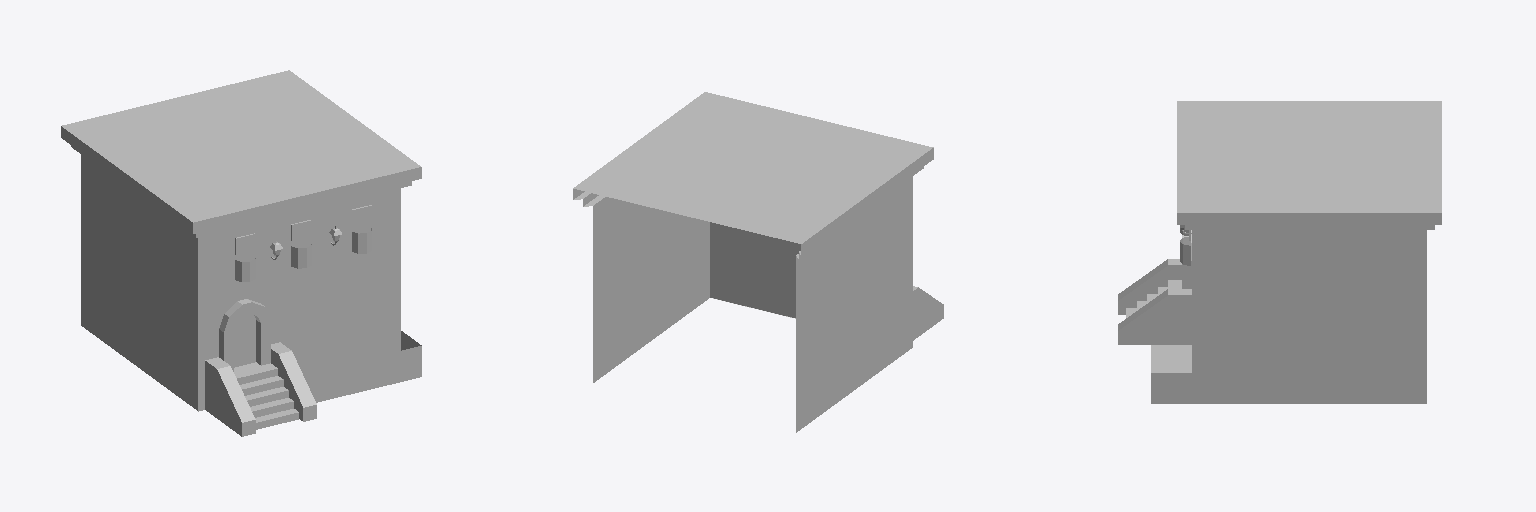
The model's file is apartment1.obj.
3 renders of one model, left to right at view 1: azimuth 30°, elevation 25°; view 2: azimuth 150°, elevation 25°; view 3: azimuth 270°, elevation 25°, orthographic.
Visible parts, largest first — view 1: Cube.007_Cube.009; view 2: Cube.007_Cube.009; view 3: Cube.007_Cube.009.
Part boxes in pixels (x1,y1,x2,y2): Cube.007_Cube.009: (61, 70, 421, 436); Cube.007_Cube.009: (573, 92, 943, 432); Cube.007_Cube.009: (1118, 101, 1441, 403).
Bounding box in the file's own units: 33.71 × 27.84 × 41.32.